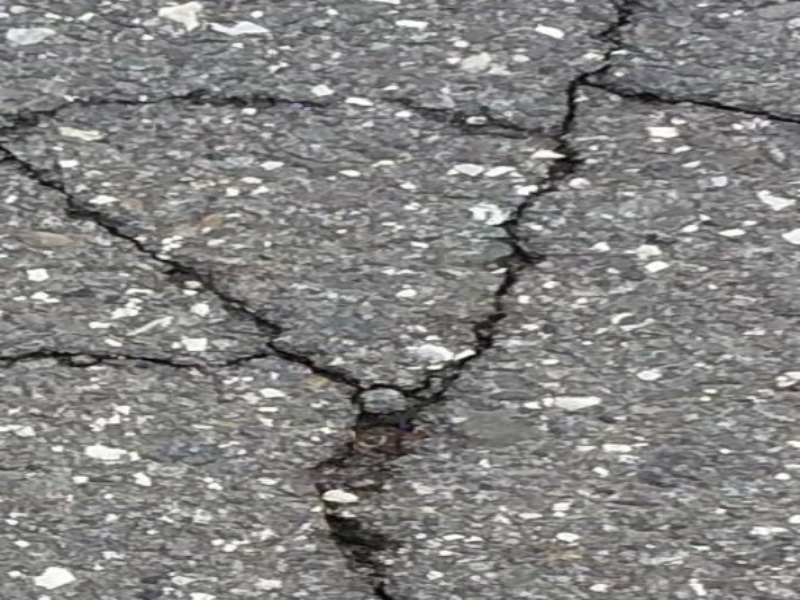crack: (342, 14, 657, 600), (1, 131, 397, 422), (9, 80, 562, 184), (574, 60, 794, 138), (1, 338, 276, 381)
